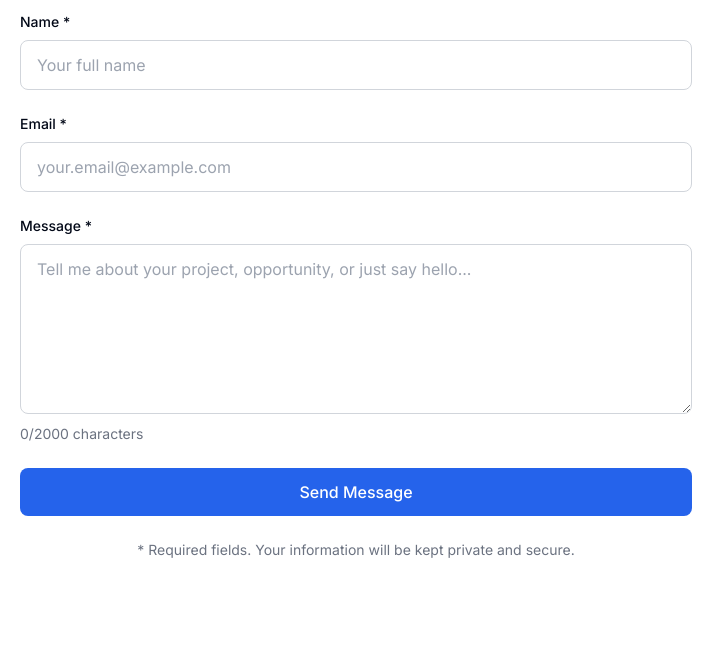
Test: ContactForm › handles network errors
The image size is (713, 657).
// Fill and submit form
In the field labelled "Name *": (356, 65) x1=20 y1=40 x2=692 y2=90, type "John Doe"
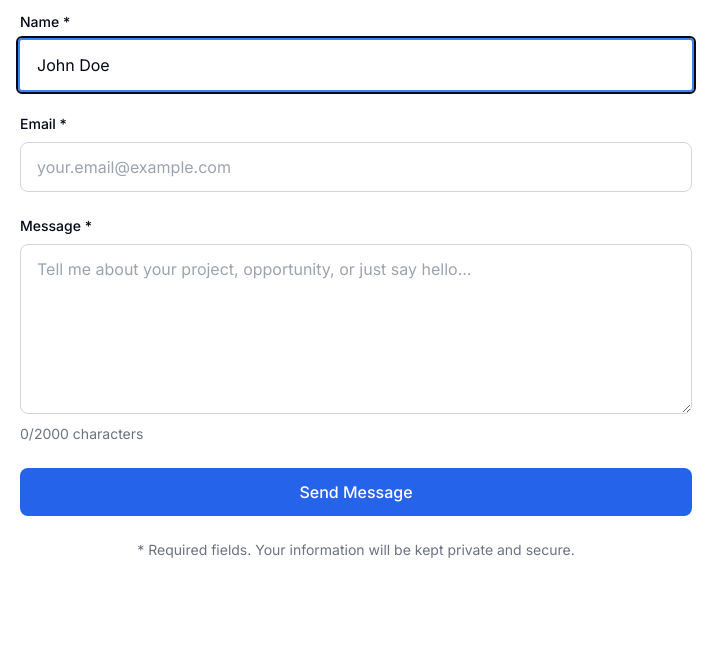
In the field labelled "Email *": (356, 167) x1=20 y1=142 x2=692 y2=192, type "john@example.com"
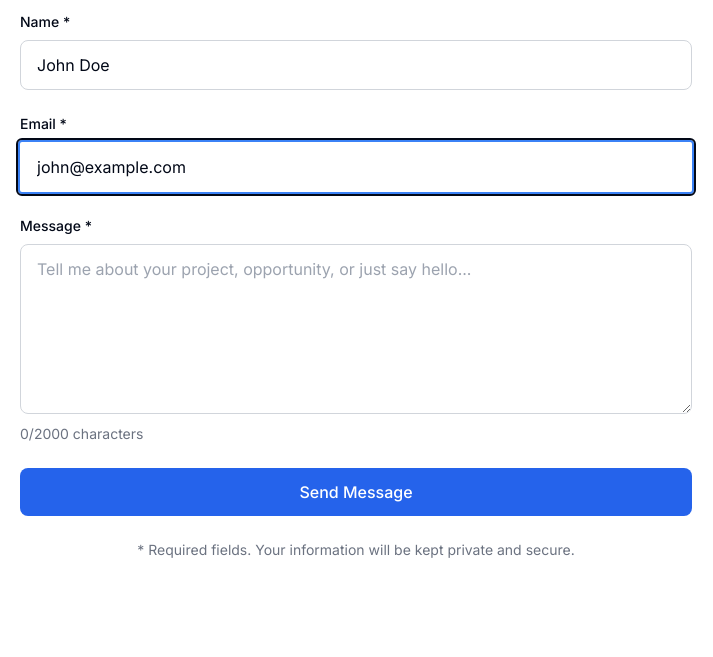
In the text box labelled "Message *": (356, 329) x1=20 y1=244 x2=692 y2=414, type "This is a test message."
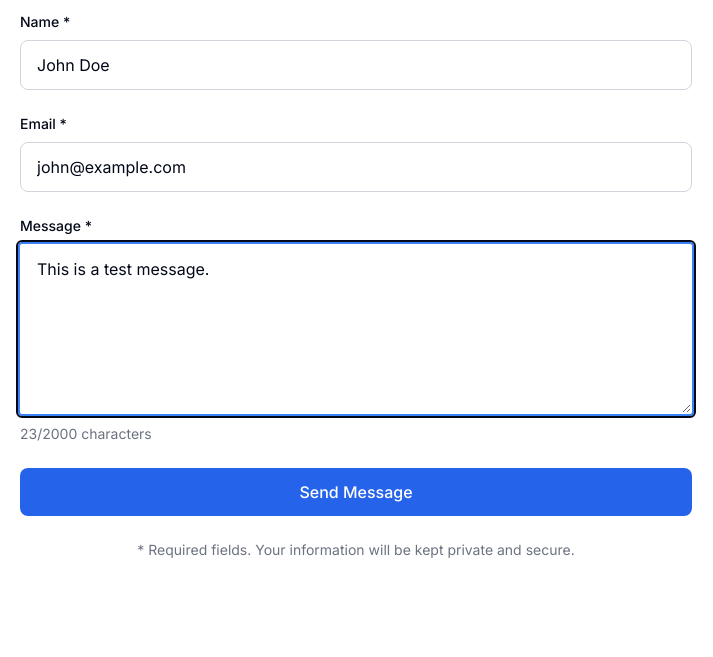
Click the button "Send Message": (356, 492) x1=20 y1=468 x2=692 y2=516
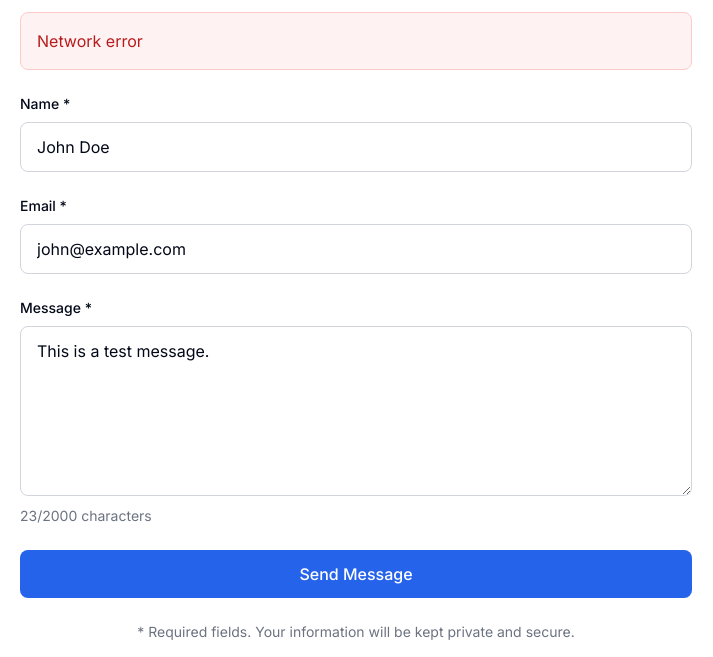
Now the text "Network error" is shown, box x1=37 y1=31 x2=143 y2=51
